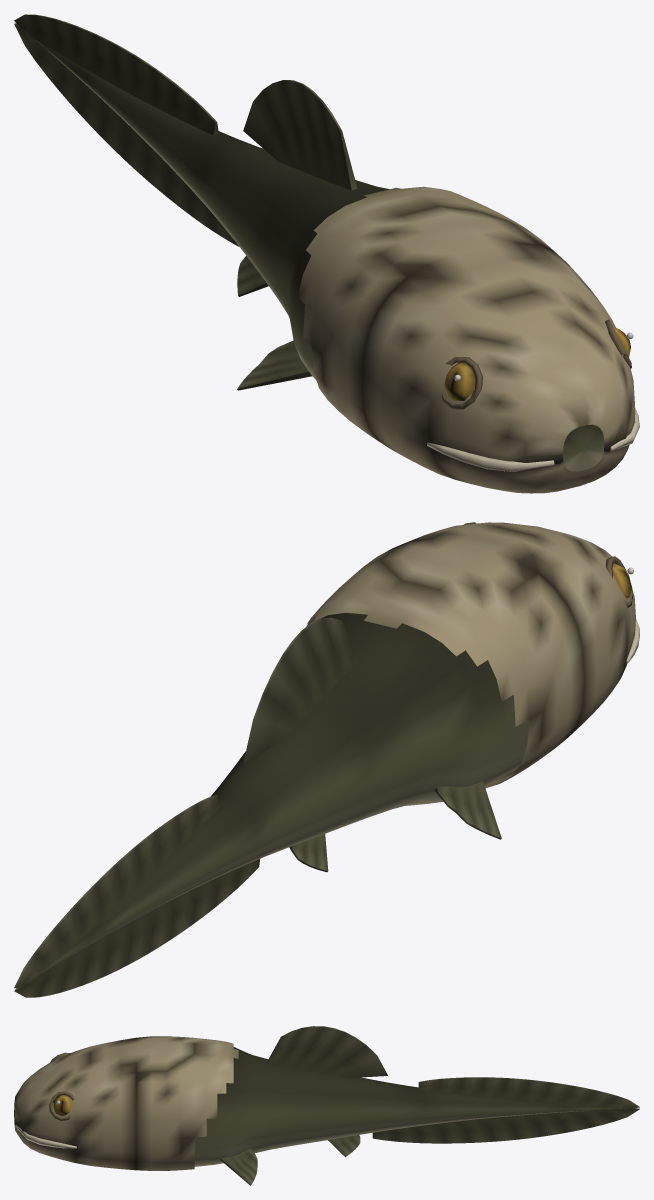
The model's file is Coccosteus.fbx.
The picture shows the model from 3 angles, top to bottom: view 1: azimuth 30°, elevation 25°; view 2: azimuth 150°, elevation 25°; view 3: azimuth 270°, elevation 25°; orthographic projection. The views are drawn at different scales.
Visible parts, largest first — view 1: Coccosteus; view 2: Coccosteus; view 3: Coccosteus.
Boxes of the visible parts, x1,y1,x2,y2 form: Coccosteus: (14, 14, 639, 493); Coccosteus: (14, 522, 639, 997); Coccosteus: (14, 1026, 639, 1185).
Size of the model in its own units: 0.4392 by 0.3819 by 1.64.
